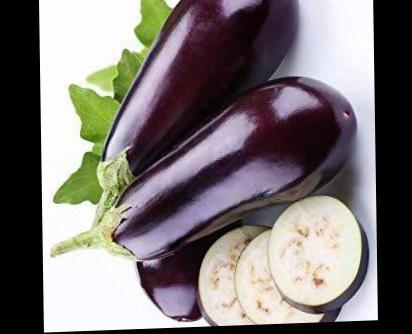eggplant: (54, 0, 365, 331)
